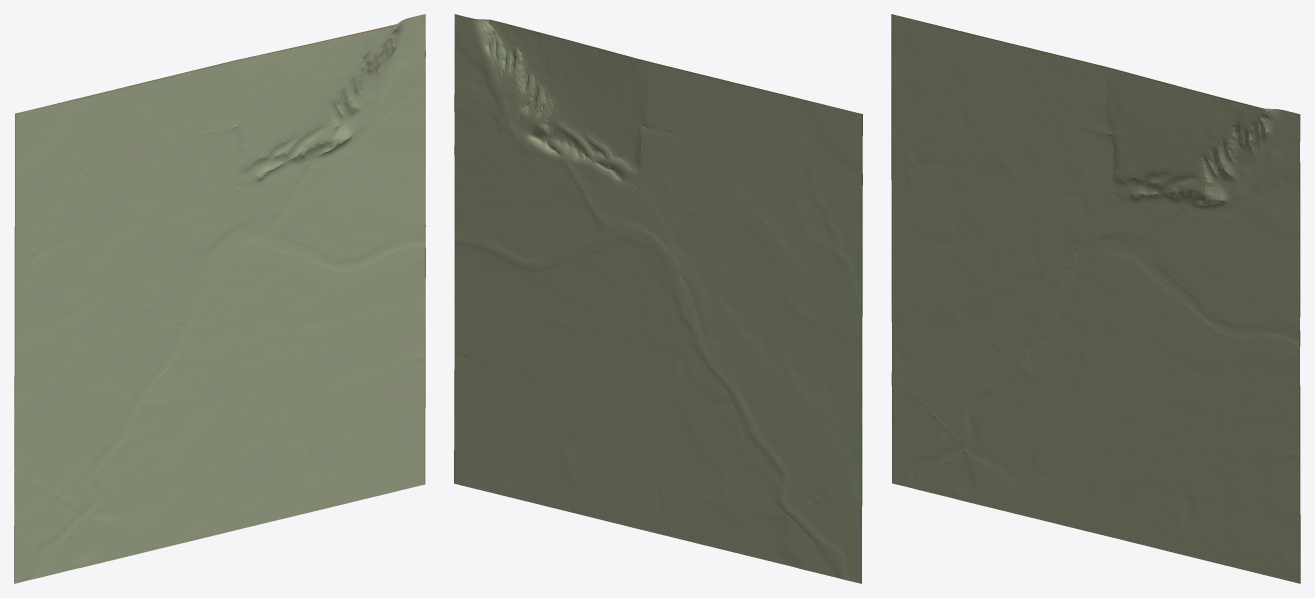
Rendered from terrain.glb.
The picture shows the model from 3 angles, left to right: view 1: azimuth 30°, elevation 25°; view 2: azimuth 150°, elevation 25°; view 3: azimuth 330°, elevation 25°; orthographic projection.
Visible parts, largest first — view 1: world; view 2: world; view 3: world.
Part boxes in pixels (x1=…): world: x1=14, y1=14, x2=425, y2=583; world: x1=454, y1=14, x2=862, y2=583; world: x1=891, y1=14, x2=1300, y2=583.
Size of the model in its own units: 5160 by 5660 by 102.
